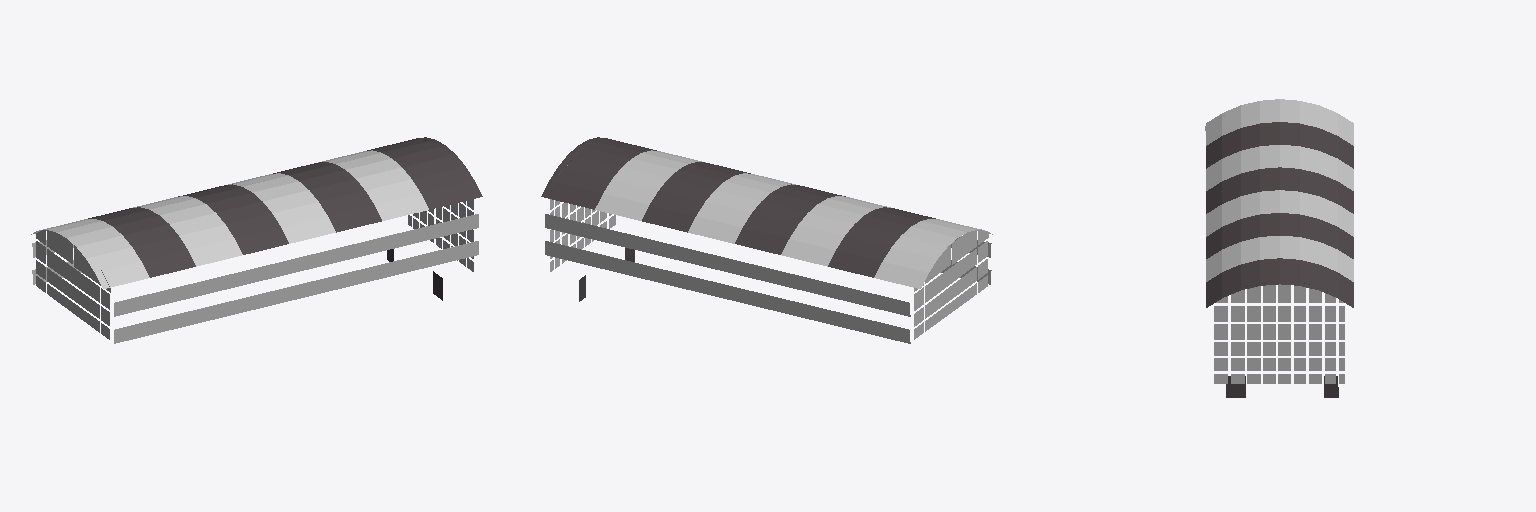
Rendered from glass.obj.
The picture shows the model from 3 angles: view 1: azimuth 30°, elevation 25°; view 2: azimuth 150°, elevation 25°; view 3: azimuth 270°, elevation 25°; orthographic projection.
Visible parts, largest first — view 1: Cube.032, Cube.002, Cube.021, Cube.029, Cube.027, Cube.024, Cube.022, Cube.026, Cube.028, Cube.023, Cube.011; view 2: Cube.032, Cube.002, Cube.021, Cube.029, Cube.024, Cube.027, Cube.022, Cube.026, Cube.028, Cube.023, Cube.011; view 3: Cube.011, Cube.021, Cube.028, Cube.024, Cube.022, Cube.026, Cube.027, Cube.023, Cube.029, Cube.033, Cube.007.
Part boxes in pixels (left/top/right/bottom): Cube.032: left=32, top=214, right=478, bottom=343; Cube.002: left=36, top=230, right=110, bottom=339; Cube.021: left=367, top=137, right=482, bottom=209; Cube.029: left=31, top=219, right=149, bottom=288; Cube.027: left=133, top=196, right=242, bottom=266; Cube.024: left=228, top=173, right=335, bottom=243; Cube.022: left=318, top=150, right=428, bottom=220; Cube.026: left=178, top=184, right=288, bottom=254; Cube.028: left=88, top=207, right=195, bottom=277; Cube.023: left=273, top=162, right=381, bottom=232; Cube.011: left=408, top=199, right=473, bottom=271; Cube.032: left=545, top=214, right=991, bottom=343; Cube.002: left=914, top=229, right=988, bottom=339; Cube.021: left=541, top=137, right=656, bottom=209; Cube.029: left=874, top=219, right=992, bottom=288; Cube.024: left=688, top=173, right=795, bottom=243; Cube.027: left=781, top=196, right=890, bottom=266; Cube.022: left=595, top=150, right=705, bottom=220; Cube.026: left=735, top=184, right=845, bottom=254; Cube.028: left=828, top=207, right=935, bottom=277; Cube.023: left=642, top=162, right=750, bottom=232; Cube.011: left=550, top=199, right=615, bottom=271; Cube.011: left=1214, top=306, right=1344, bottom=383; Cube.021: left=1206, top=258, right=1353, bottom=307; Cube.028: left=1206, top=122, right=1353, bottom=168; Cube.024: left=1206, top=190, right=1353, bottom=236; Cube.022: left=1206, top=236, right=1353, bottom=281; Cube.026: left=1206, top=167, right=1353, bottom=213; Cube.027: left=1206, top=145, right=1353, bottom=190; Cube.023: left=1206, top=213, right=1353, bottom=258; Cube.029: left=1206, top=99, right=1353, bottom=145; Cube.033: left=1216, top=284, right=1343, bottom=302; Cube.007: left=1226, top=376, right=1338, bottom=397.
Bounding box in the file's own units: 114 × 36.71 × 42.09.